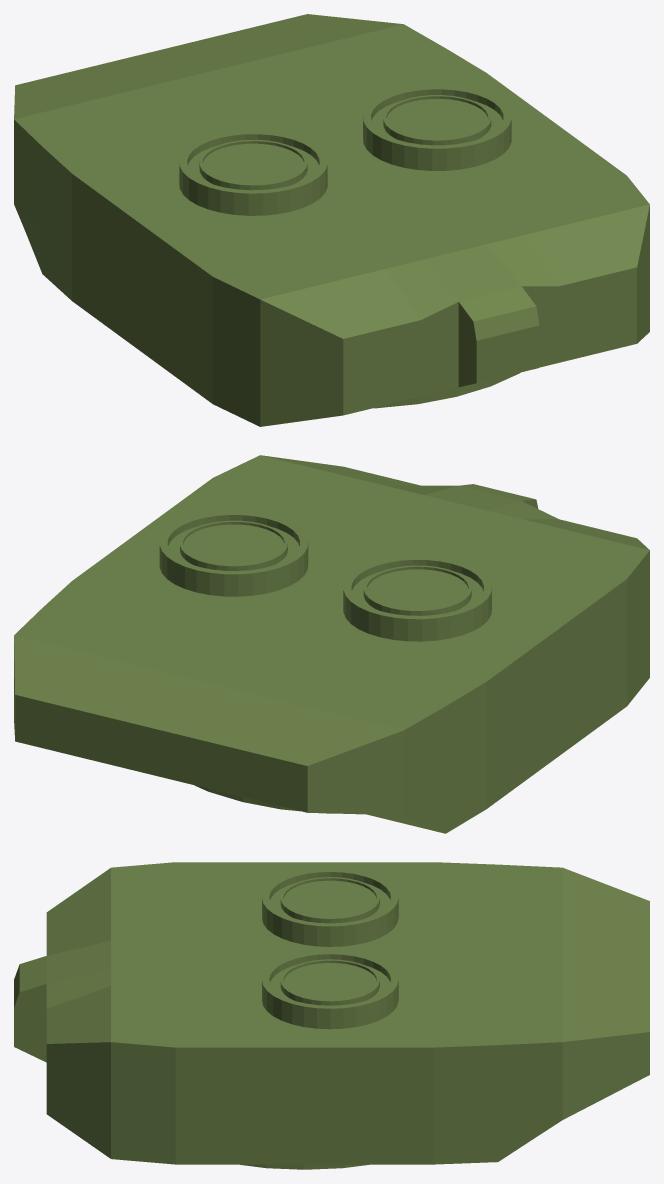
File: T_Torreta.fbx
The picture shows the model from 3 angles, top to bottom: view 1: azimuth 30°, elevation 25°; view 2: azimuth 150°, elevation 25°; view 3: azimuth 270°, elevation 25°; orthographic projection. The views are drawn at different scales.
Parts seen in each view (by area): view 1: Torreta; view 2: Torreta; view 3: Torreta.
Boxes of the visible parts, x1=… form: Torreta: x1=14, y1=14, x2=649, y2=426; Torreta: x1=14, y1=455, x2=649, y2=833; Torreta: x1=14, y1=862, x2=649, y2=1169.
Size of the model in its own units: 340 by 130 by 493.
